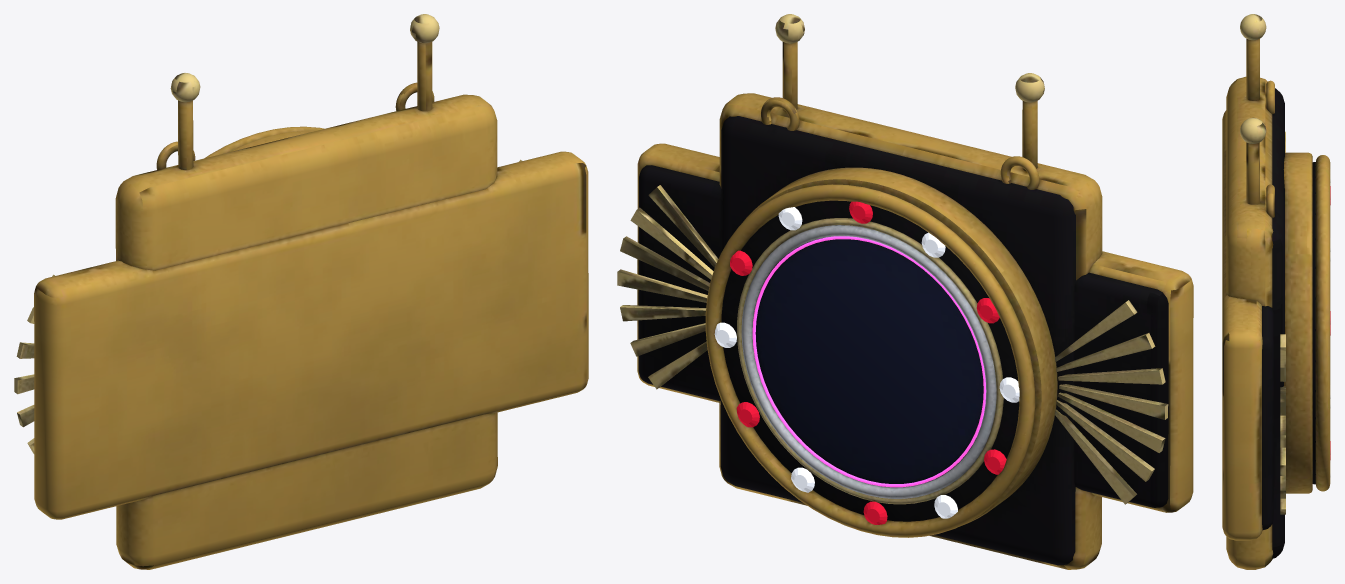
The picture shows the model from 3 angles, left to right: view 1: azimuth 30°, elevation 25°; view 2: azimuth 150°, elevation 25°; view 3: azimuth 270°, elevation 25°; orthographic projection. The views are drawn at different scales.
Parts seen in each view (by area): view 1: Polished_gold, Champagne_gold; view 2: Black_lacquer, Polished_gold, Midnight_enamel, Champagne_gold, Chrome_bezel, glow_Diamond_studs, glow_Ruby_studs, glow_Magenta_accent; view 3: Polished_gold, Black_lacquer, Champagne_gold.
Boxes of the visible parts, left/top/right/bottom form: Polished_gold: left=34, top=41, right=588, bottom=569; Champagne_gold: left=14, top=14, right=522, bottom=453; Black_lacquer: left=638, top=116, right=1168, bottom=565; Polished_gold: left=637, top=42, right=1193, bottom=569; Midnight_enamel: left=755, top=238, right=983, bottom=483; Champagne_gold: left=617, top=14, right=1168, bottom=504; Chrome_bezel: left=741, top=225, right=996, bottom=498; glow_Diamond_studs: left=714, top=207, right=1019, bottom=518; glow_Ruby_studs: left=730, top=201, right=1006, bottom=524; glow_Magenta_accent: left=752, top=236, right=986, bottom=487; Polished_gold: left=1222, top=39, right=1330, bottom=569; Black_lacquer: left=1262, top=88, right=1315, bottom=558; Champagne_gold: left=1240, top=14, right=1285, bottom=514.
Size of the model in its own units: 2.74 by 2.31 by 0.5272.
8 materials, 5 textured.
